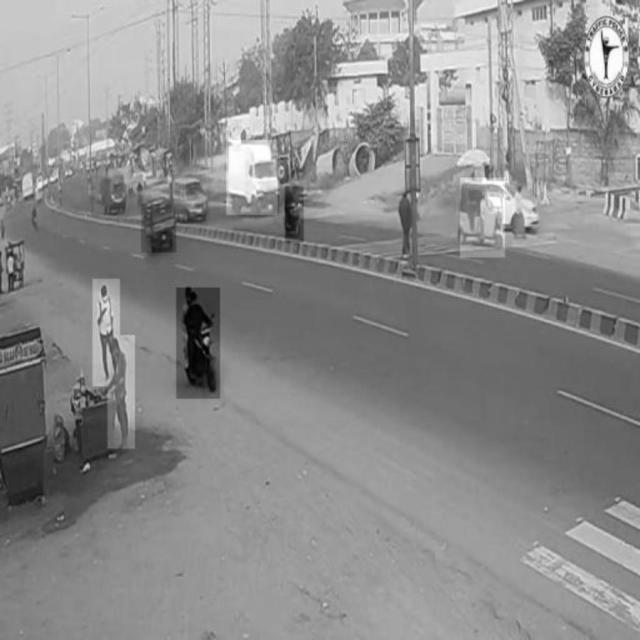person: (108, 336, 135, 449), (93, 279, 120, 387)
vehicle: (177, 288, 221, 399), (226, 141, 277, 215), (461, 178, 506, 258), (171, 174, 209, 221), (141, 204, 176, 252), (285, 186, 303, 242)
